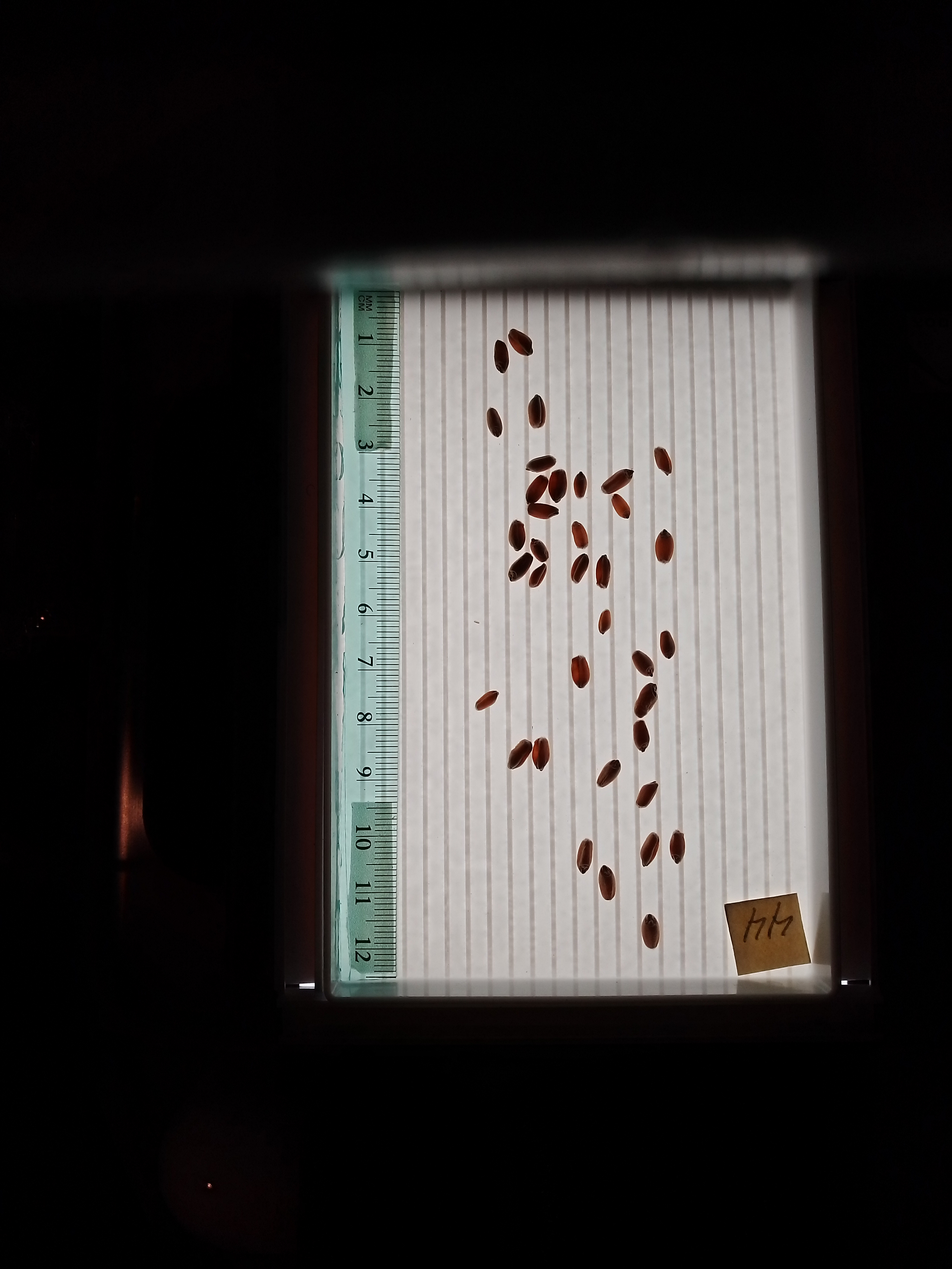seed mask: (634, 684, 657, 718), (602, 469, 632, 495), (508, 740, 532, 770), (597, 759, 621, 787), (509, 329, 533, 356), (508, 554, 532, 581), (655, 530, 674, 564), (642, 914, 660, 949), (640, 834, 659, 866), (532, 738, 550, 771), (571, 656, 590, 687), (526, 477, 547, 504), (528, 397, 546, 428), (632, 651, 654, 676), (549, 470, 566, 502), (599, 866, 615, 900), (577, 840, 593, 872), (508, 521, 525, 551), (571, 555, 589, 583), (637, 783, 658, 807), (596, 556, 611, 588), (529, 503, 557, 520), (655, 447, 672, 475), (487, 408, 503, 437), (527, 456, 554, 473), (659, 631, 676, 658), (476, 691, 498, 711), (612, 495, 631, 518), (494, 341, 508, 372), (670, 832, 684, 863), (572, 522, 588, 549), (531, 539, 548, 561), (529, 566, 546, 588), (573, 473, 587, 497), (598, 611, 610, 633)
